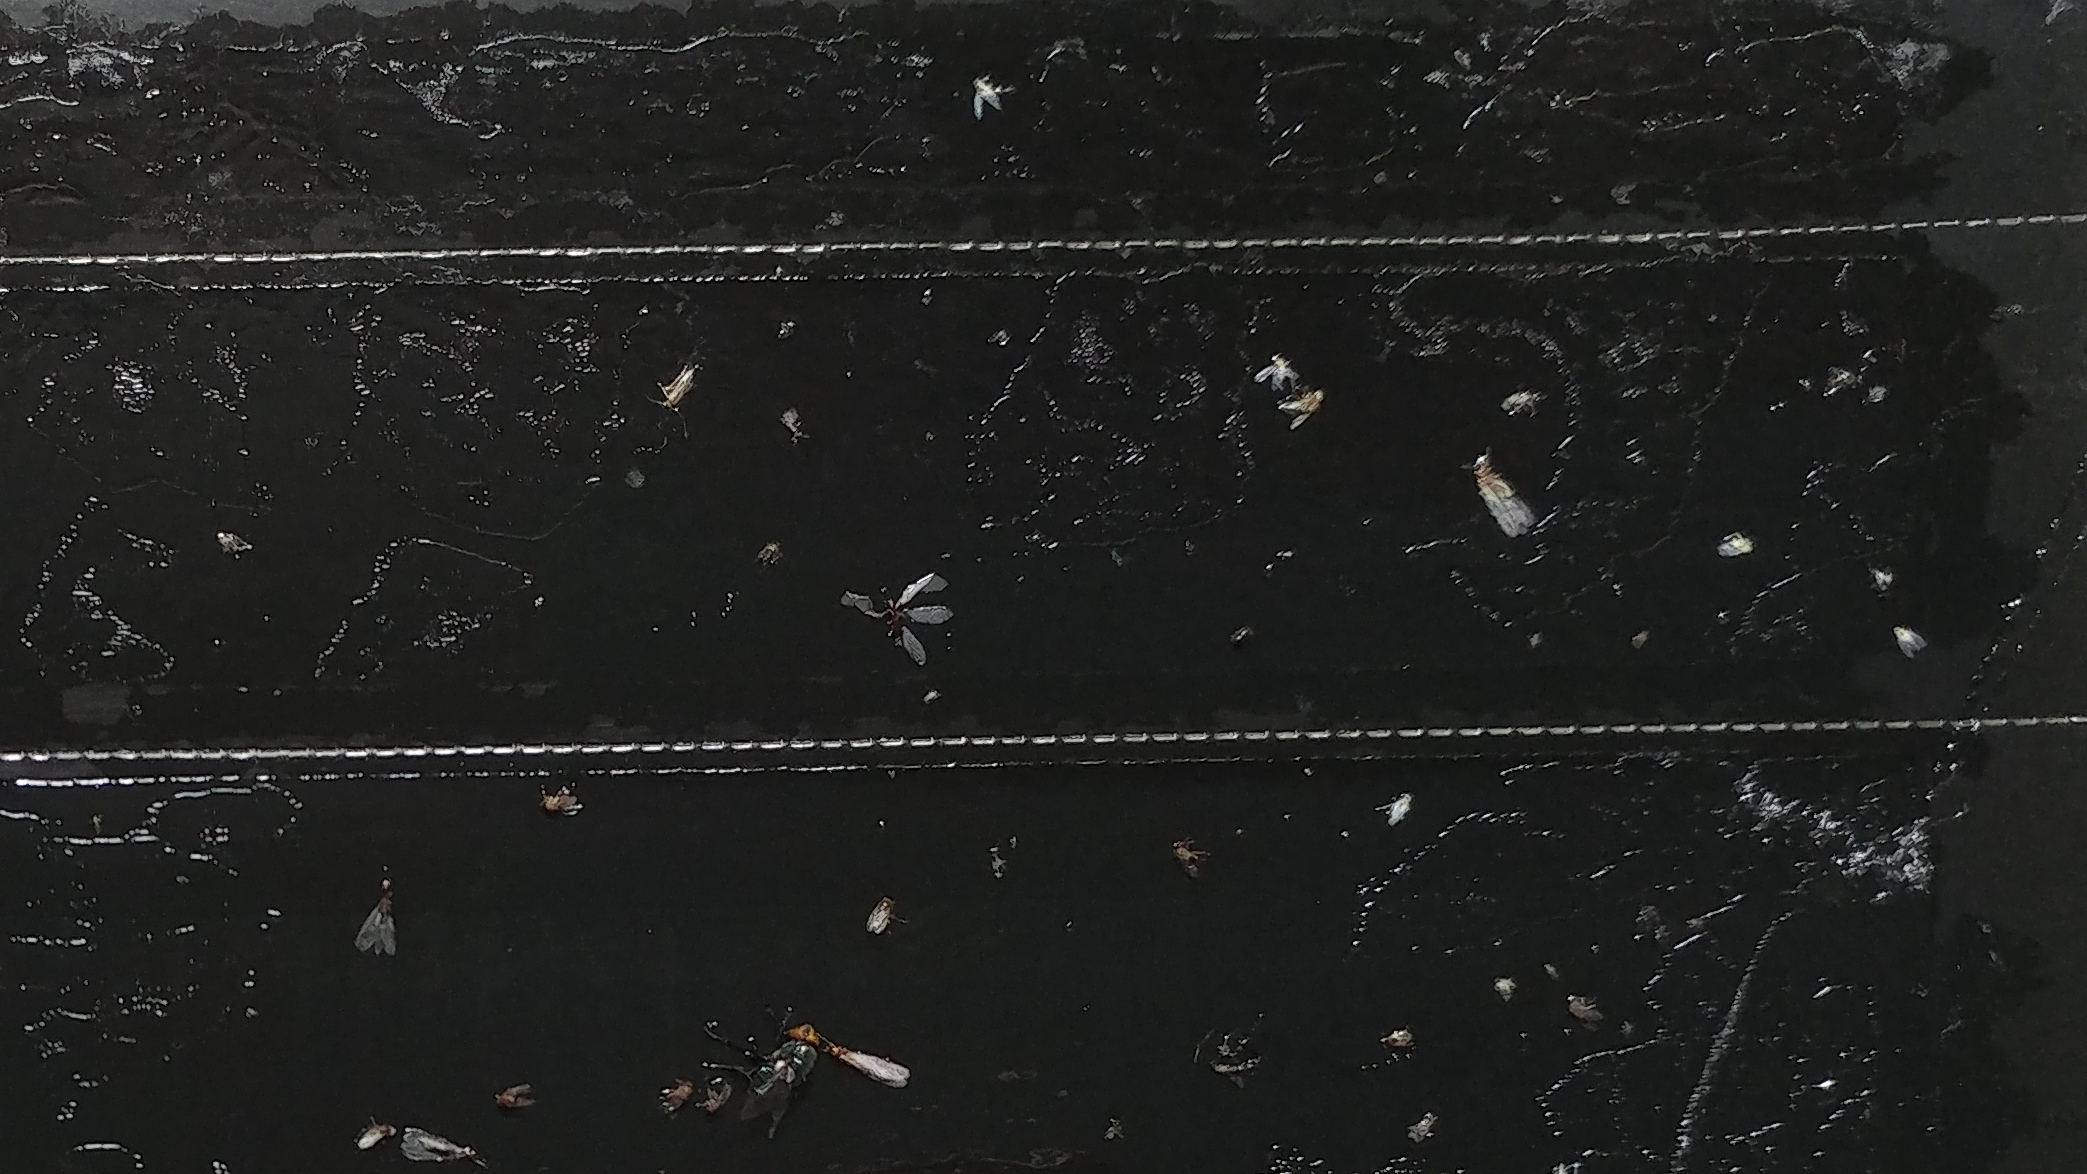house fly: (664, 996, 912, 1137)
